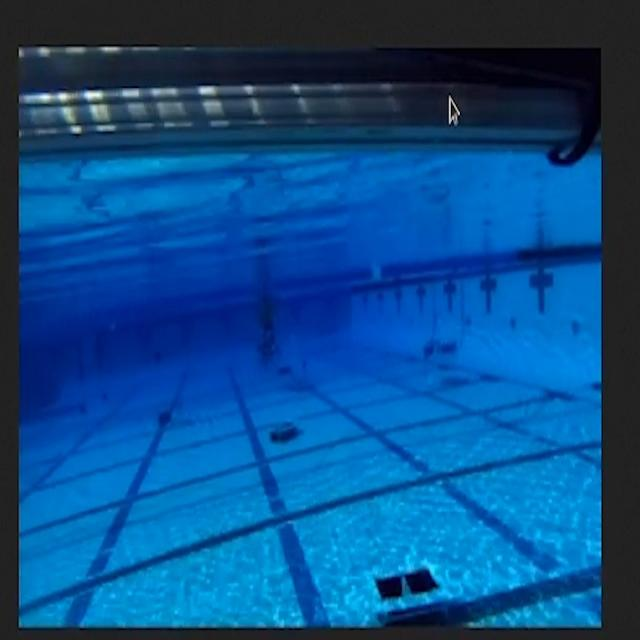Bin: (357, 526, 458, 636)
